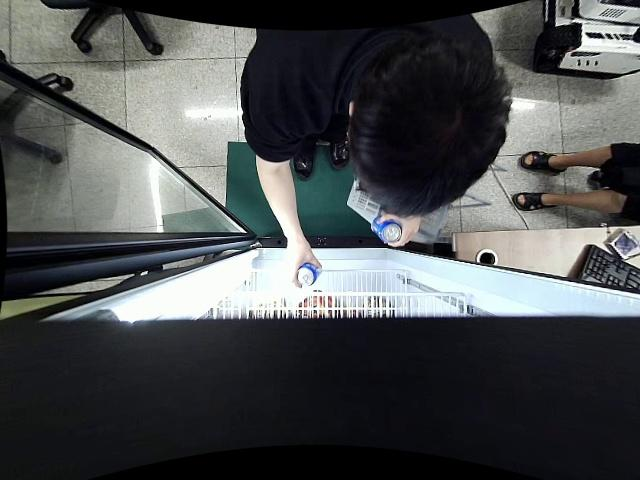00_hand: (286, 241, 325, 290), (376, 212, 421, 248)
13_pocariSweat: (371, 217, 403, 245), (298, 261, 321, 287)
